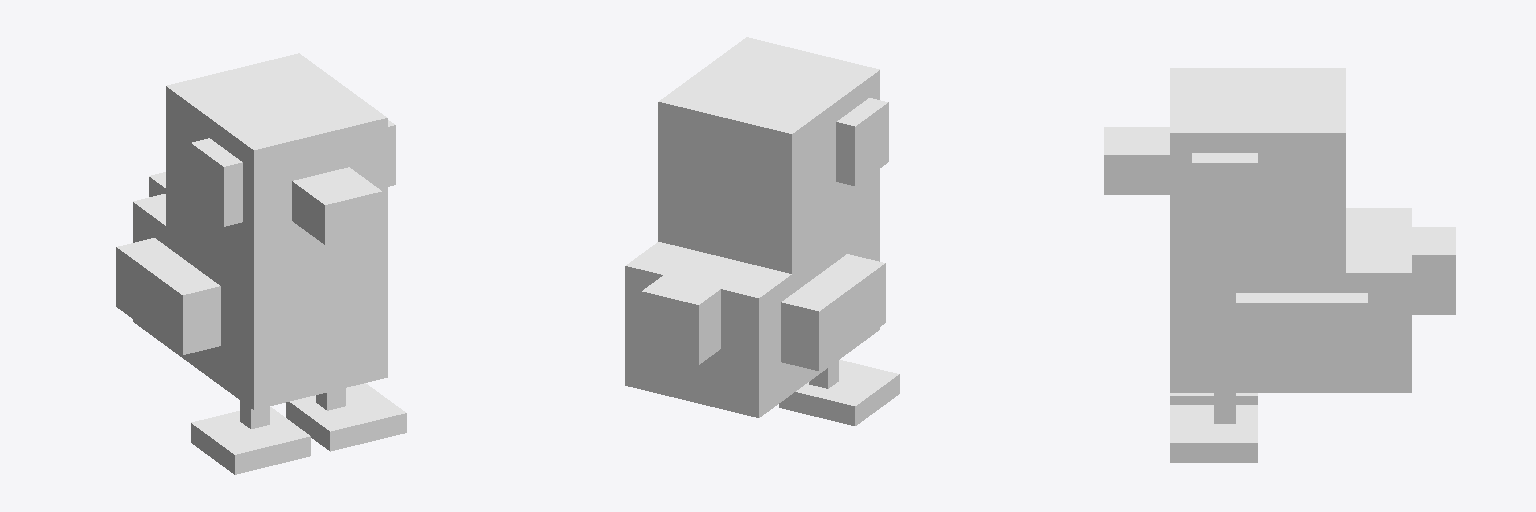
Rendered from CrossyDuck.obj.
3 views of the same model, side by side, from view 1: azimuth 30°, elevation 25°; view 2: azimuth 150°, elevation 25°; view 3: azimuth 270°, elevation 25° (orthographic).
Parts seen in each view (by area): view 1: object 1; view 2: object 1; view 3: object 1.
Part boxes in pixels (x1,y1,x2,y2): object 1: (116,53,406,474); object 1: (625,37,899,425); object 1: (1104,68,1455,462).
Size of the model in its own units: 1 by 1.6 by 1.6.